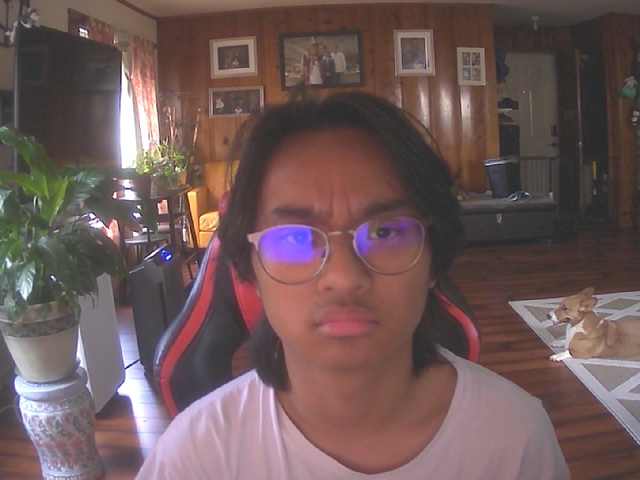anger: (250, 111, 446, 379)
